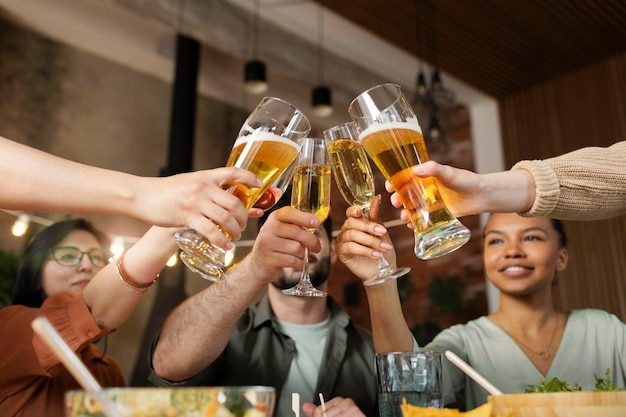alcohol: (172, 98, 312, 269), (348, 81, 473, 258), (323, 124, 412, 287), (280, 136, 336, 298)
